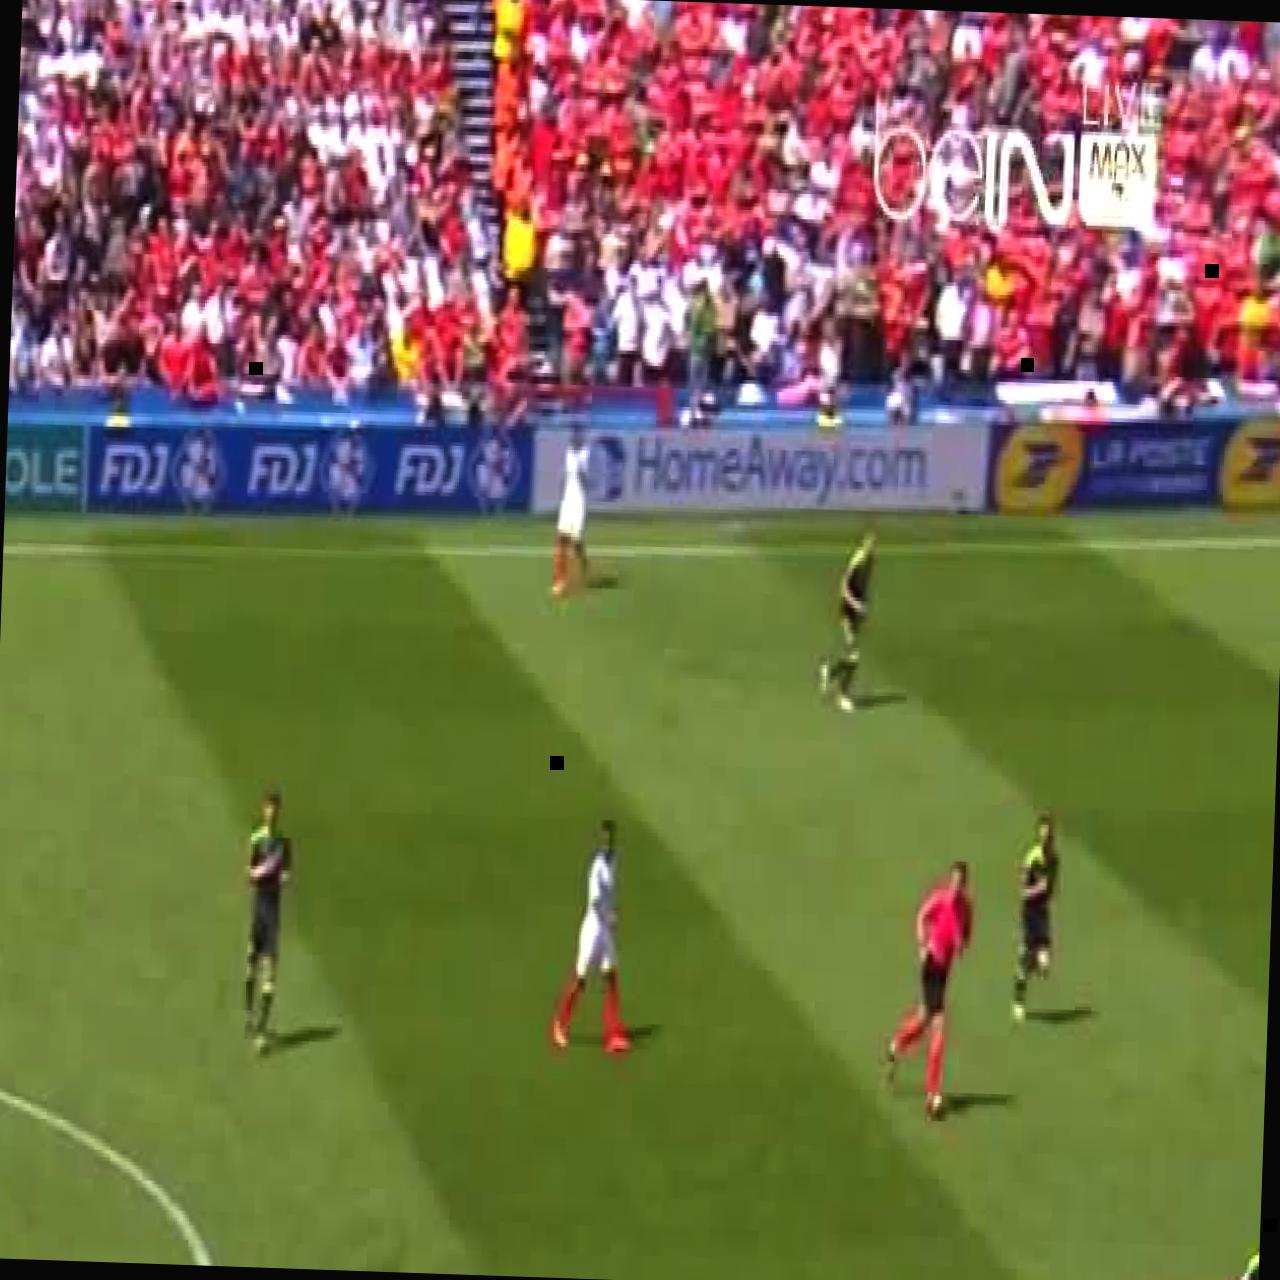football: (882, 862, 974, 1124), (552, 817, 638, 1053), (237, 791, 295, 1056), (815, 529, 881, 713), (1010, 816, 1062, 1022), (550, 417, 596, 598), (1188, 1206, 1260, 1280)
